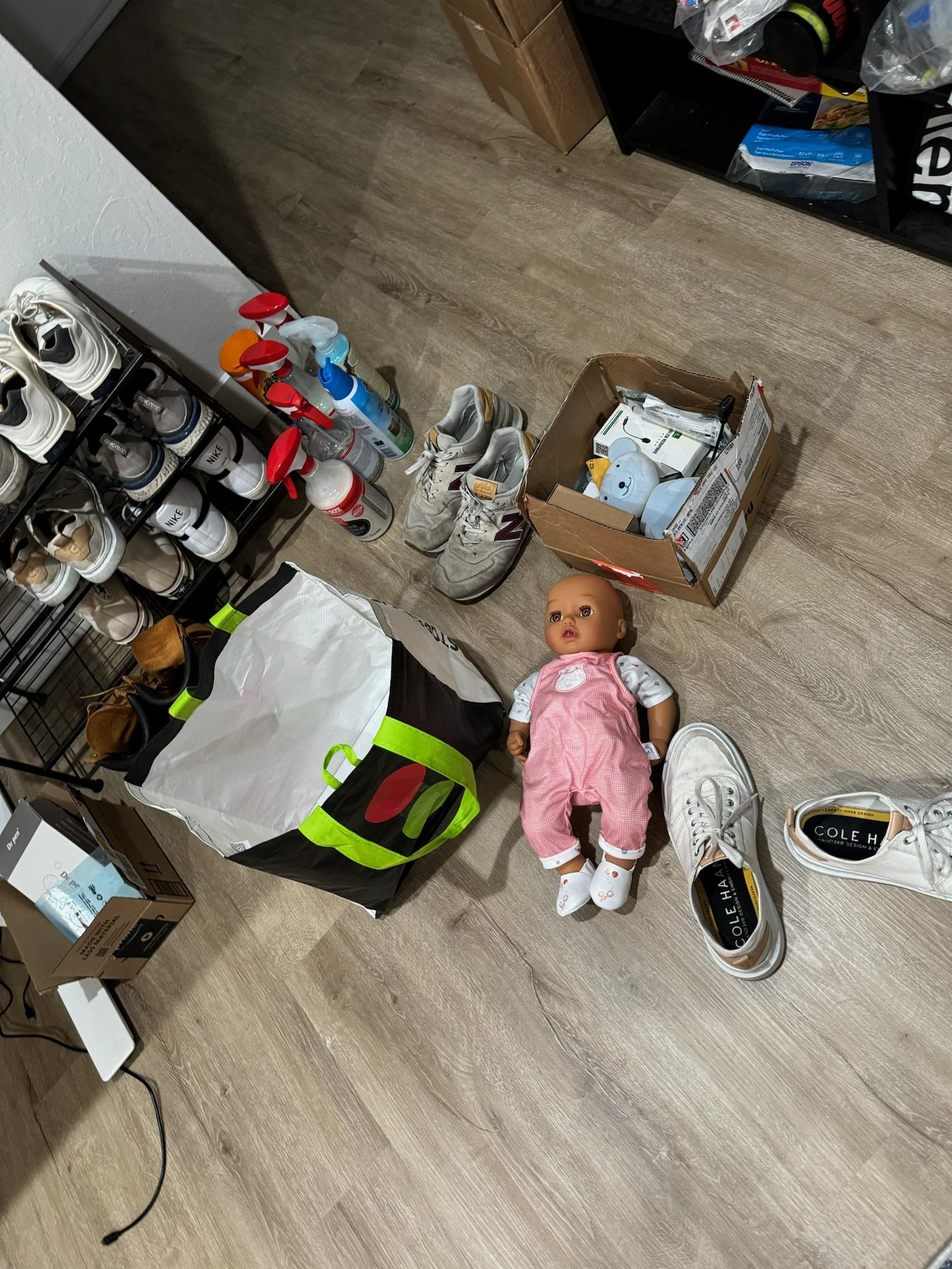baby: (492, 576, 680, 923)
